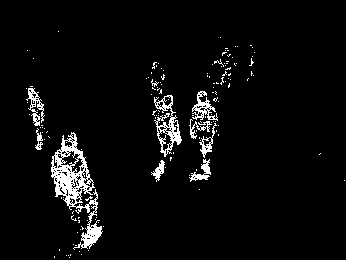person: (49, 131, 103, 251), (149, 93, 182, 182), (190, 91, 218, 181), (25, 86, 51, 151), (149, 60, 166, 96)
